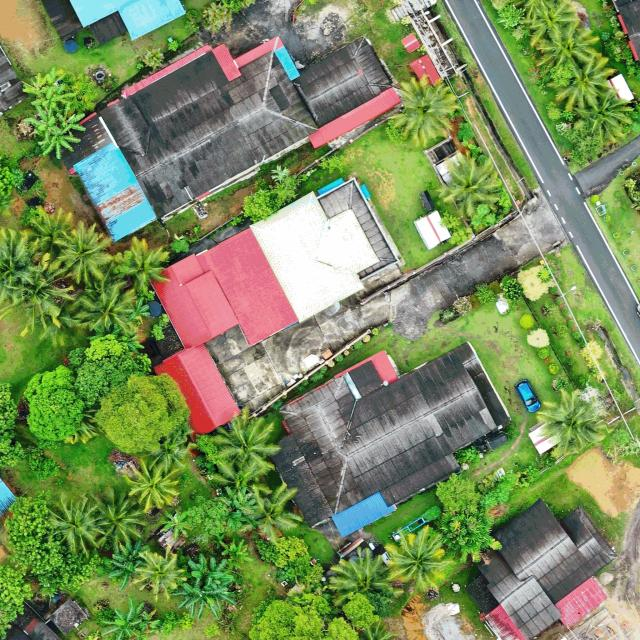Tree: (4, 494, 101, 598), (97, 372, 192, 457), (0, 252, 79, 346), (68, 332, 152, 405), (385, 73, 458, 149), (326, 546, 402, 615), (23, 365, 84, 443), (211, 409, 282, 474), (534, 390, 606, 454), (86, 484, 148, 553), (51, 221, 114, 287), (384, 528, 451, 590), (549, 54, 618, 112), (44, 492, 104, 557), (118, 455, 184, 514), (437, 156, 500, 217), (111, 235, 172, 295), (73, 276, 137, 332), (241, 482, 303, 537), (535, 20, 599, 73), (133, 547, 189, 602), (575, 90, 633, 143), (22, 205, 77, 256), (168, 578, 221, 622), (23, 66, 76, 105), (188, 554, 234, 588), (222, 486, 256, 532), (37, 124, 81, 159), (101, 607, 142, 640), (108, 554, 141, 590), (158, 507, 194, 538), (23, 104, 56, 136), (56, 103, 86, 137), (220, 540, 254, 564), (123, 297, 150, 322)
